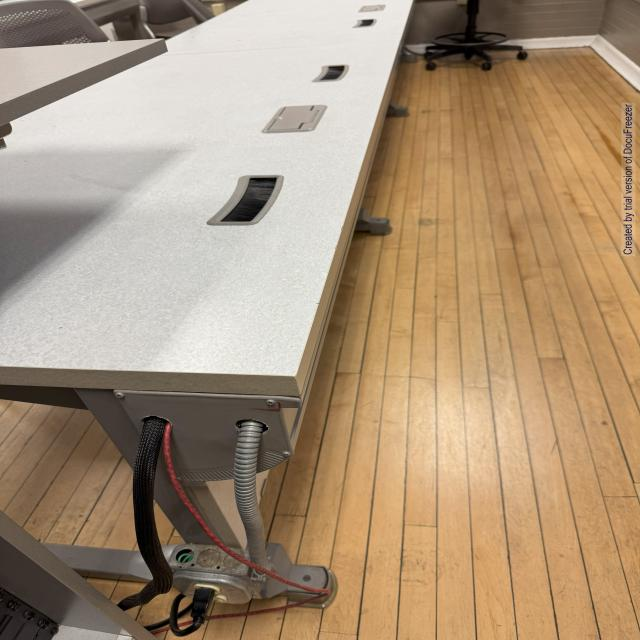Table: (0, 1, 420, 640)
